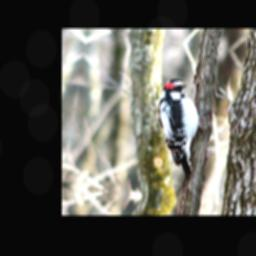Woodpecker: (144, 76, 212, 184)
